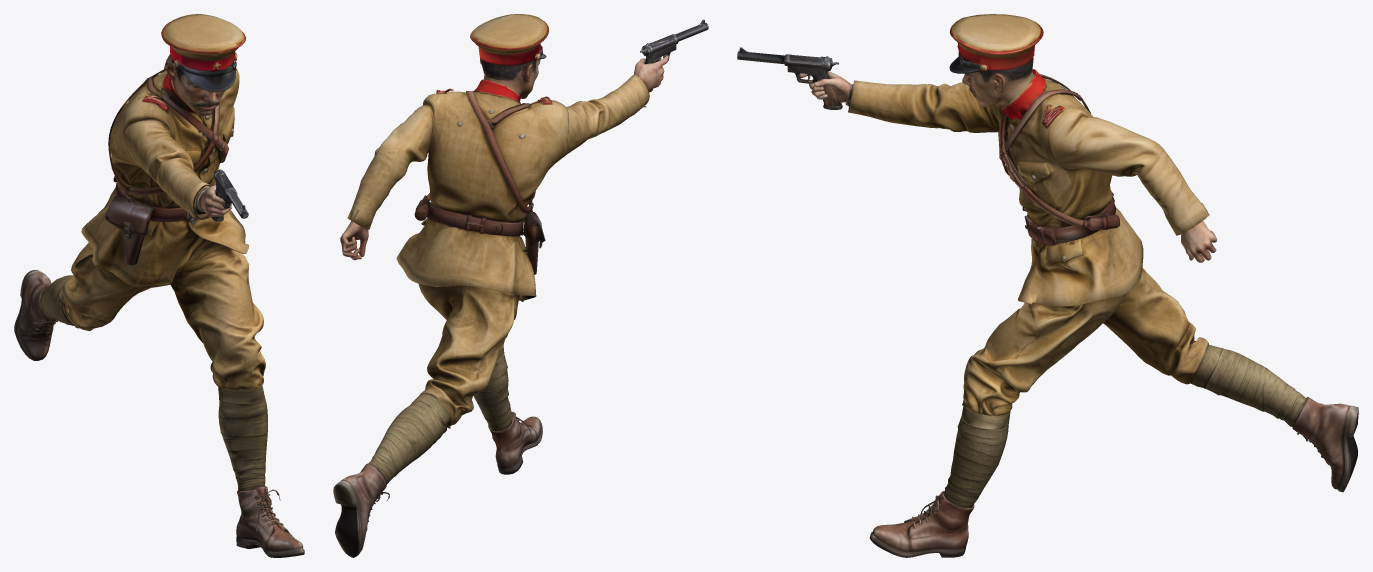
File: soldier_3.glb
3 views of the same model, side by side, from view 1: azimuth 30°, elevation 25°; view 2: azimuth 150°, elevation 25°; view 3: azimuth 270°, elevation 25° (orthographic). The views are drawn at different scales.
Visible parts, largest first — view 1: tripo_node_607a3ce6-bf63-43fe-be26-8f722f558f59; view 2: tripo_node_607a3ce6-bf63-43fe-be26-8f722f558f59; view 3: tripo_node_607a3ce6-bf63-43fe-be26-8f722f558f59.
Part boxes in pixels (x1,y1,x2,y2): tripo_node_607a3ce6-bf63-43fe-be26-8f722f558f59: (14,14,304,557); tripo_node_607a3ce6-bf63-43fe-be26-8f722f558f59: (333,14,708,557); tripo_node_607a3ce6-bf63-43fe-be26-8f722f558f59: (737,14,1358,557).
Size of the model in its own units: 0.3296 by 0.9146 by 0.9995.
Materials: 1 (1 with a texture image).
